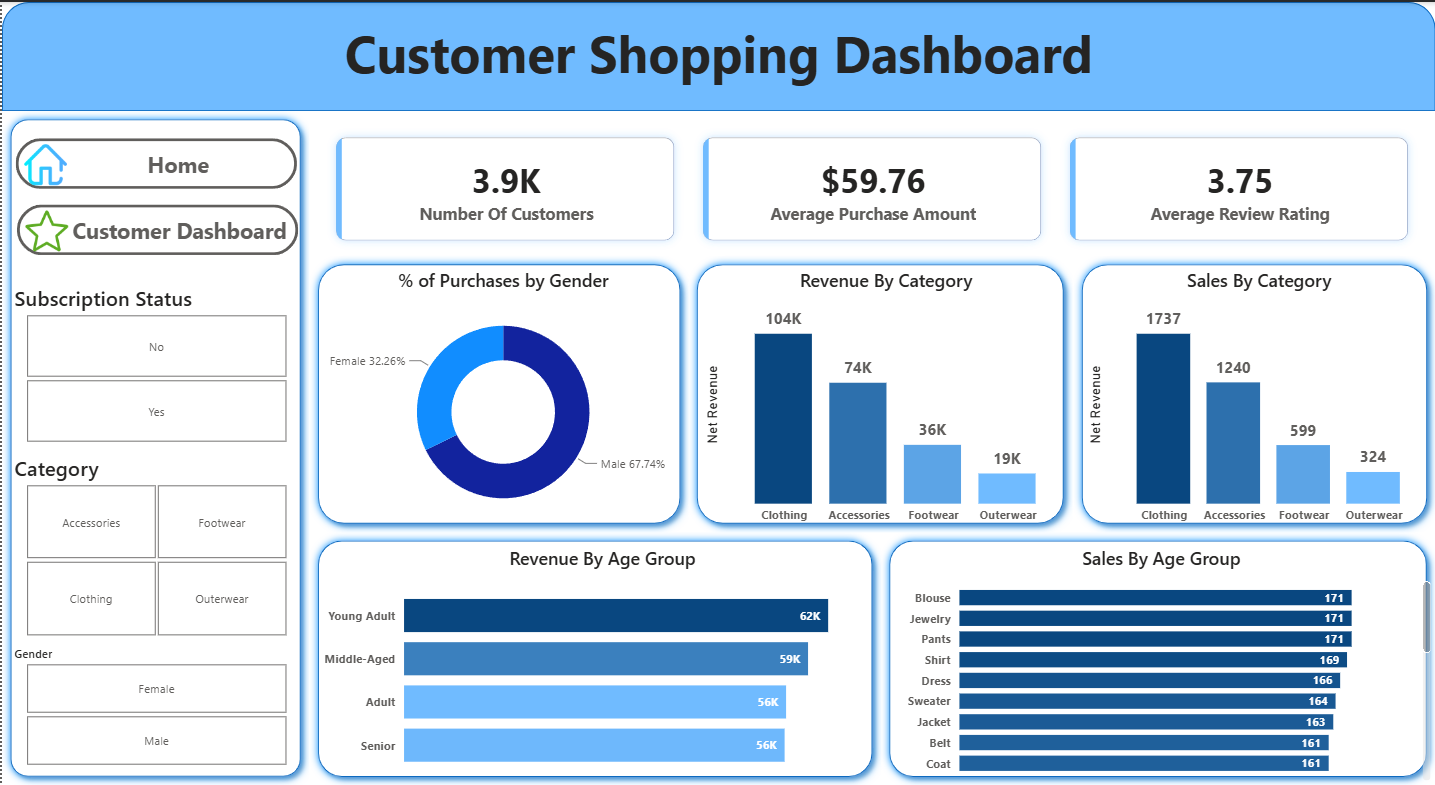

Layout of this report page (visuals, bound fields, positions):
{"tool":"powerbi","page":{"name":"Home","canvas":[1500,820],"ordinal":0},"visuals":[{"type":"cardVisual","fields":{"Data":["public customer_shopping_analysis.customer_count","public customer_shopping_analysis.avg_revenue","public customer_shopping_analysis.avg_review_rating"]},"box":[321.6,114.2,1178.7,164],"z":0},{"type":"shape","box":[0,0,1500.3,114.2],"z":1000},{"type":"textbox","box":[0,11.3,1500.3,151.2],"z":2000},{"type":"shape","box":[321.6,265.3,397.2,289.5],"z":3000},{"type":"shape","box":[718.8,265.3,402,289.5],"z":4000},{"type":"shape","box":[1120.8,265.3,379.5,289.5],"z":5000},{"type":"donutChart","title":"% of Purchases by Gender","fields":{"Category":["public customer_shopping_analysis.gender"],"Y":["public customer_shopping_analysis.net_revenue"]},"box":[331.3,278.2,387.5,276.6],"z":6000},{"type":"clusteredColumnChart","title":"Revenue By Category","fields":{"Category":["public customer_shopping_analysis.category"],"Y":["public customer_shopping_analysis.net_revenue"]},"box":[730.1,279,390.8,276.6],"z":7000},{"type":"clusteredColumnChart","title":"Sales By Category","fields":{"Category":["public customer_shopping_analysis.category"],"Y":["public customer_shopping_analysis.customer_count"]},"box":[1132.1,278.2,368.2,276.6],"z":8000},{"type":"shape","box":[0,114.2,321.6,705.9],"z":9000},{"type":"slicer","fields":{"Values":["public customer_shopping_analysis.subscription_status"]},"box":[0,291.1,321.6,176.9],"z":10000},{"type":"slicer","fields":{"Values":["public customer_shopping_analysis.category"]},"box":[0,467.9,321.6,201],"z":11000},{"type":"slicer","fields":{"Values":["public customer_shopping_analysis.gender"]},"box":[0,669,321.6,136.7],"z":12000},{"type":"shape","box":[321.6,554.8,598.2,265.3],"z":13000},{"type":"shape","box":[919.8,554.8,580.5,265.3],"z":14000},{"type":"clusteredBarChart","title":"Sales By Age Group","fields":{"Category":["public customer_shopping_analysis.item_purchased"],"Y":["CountNonNull(public customer_shopping_analysis.category)"]},"box":[926.2,569.3,574.1,250.9],"z":15000},{"type":"actionButton","box":[14.5,143.1,294.3,53.1],"z":16000},{"type":"actionButton","box":[16.1,212.3,294.3,53.1],"z":17000},{"type":"image","box":[14.4,147.8,62.2,44.4],"z":18000},{"type":"image","box":[15.6,216.7,62.2,44.4],"z":19000},{"type":"clusteredBarChart","title":"Revenue By Age Group","fields":{"Category":["public customer_shopping_analysis.age_category"],"Y":["public customer_shopping_analysis.net_revenue"]},"box":[331.3,569.3,595,250.9],"z":20000}]}

Visuals, with their boxes in screenshot pixels (x1, y1, x2, y2), scaled from the page's 1500x820 canvas onto the 1435x785 screenshot:
cardVisual - public customer_shopping_analysis.customer_count x public customer_shopping_analysis.avg_revenue: <region>308, 109, 1434, 266</region>
shape: <region>0, 0, 1434, 109</region>
textbox: <region>0, 11, 1434, 156</region>
shape: <region>308, 254, 688, 531</region>
shape: <region>688, 254, 1072, 531</region>
shape: <region>1072, 254, 1434, 531</region>
"% of Purchases by Gender" donutChart: <region>317, 266, 688, 531</region>
"Revenue By Category" clusteredColumnChart: <region>698, 267, 1072, 532</region>
"Sales By Category" clusteredColumnChart: <region>1083, 266, 1434, 531</region>
shape: <region>0, 109, 308, 784</region>
slicer - public customer_shopping_analysis.subscription_status: <region>0, 279, 308, 448</region>
slicer - public customer_shopping_analysis.category: <region>0, 448, 308, 640</region>
slicer - public customer_shopping_analysis.gender: <region>0, 640, 308, 771</region>
shape: <region>308, 531, 880, 784</region>
shape: <region>880, 531, 1434, 784</region>
"Sales By Age Group" clusteredBarChart: <region>886, 545, 1434, 784</region>
actionButton: <region>14, 137, 295, 188</region>
actionButton: <region>15, 203, 297, 254</region>
image: <region>14, 141, 73, 184</region>
image: <region>15, 207, 74, 250</region>
"Revenue By Age Group" clusteredBarChart: <region>317, 545, 886, 784</region>
